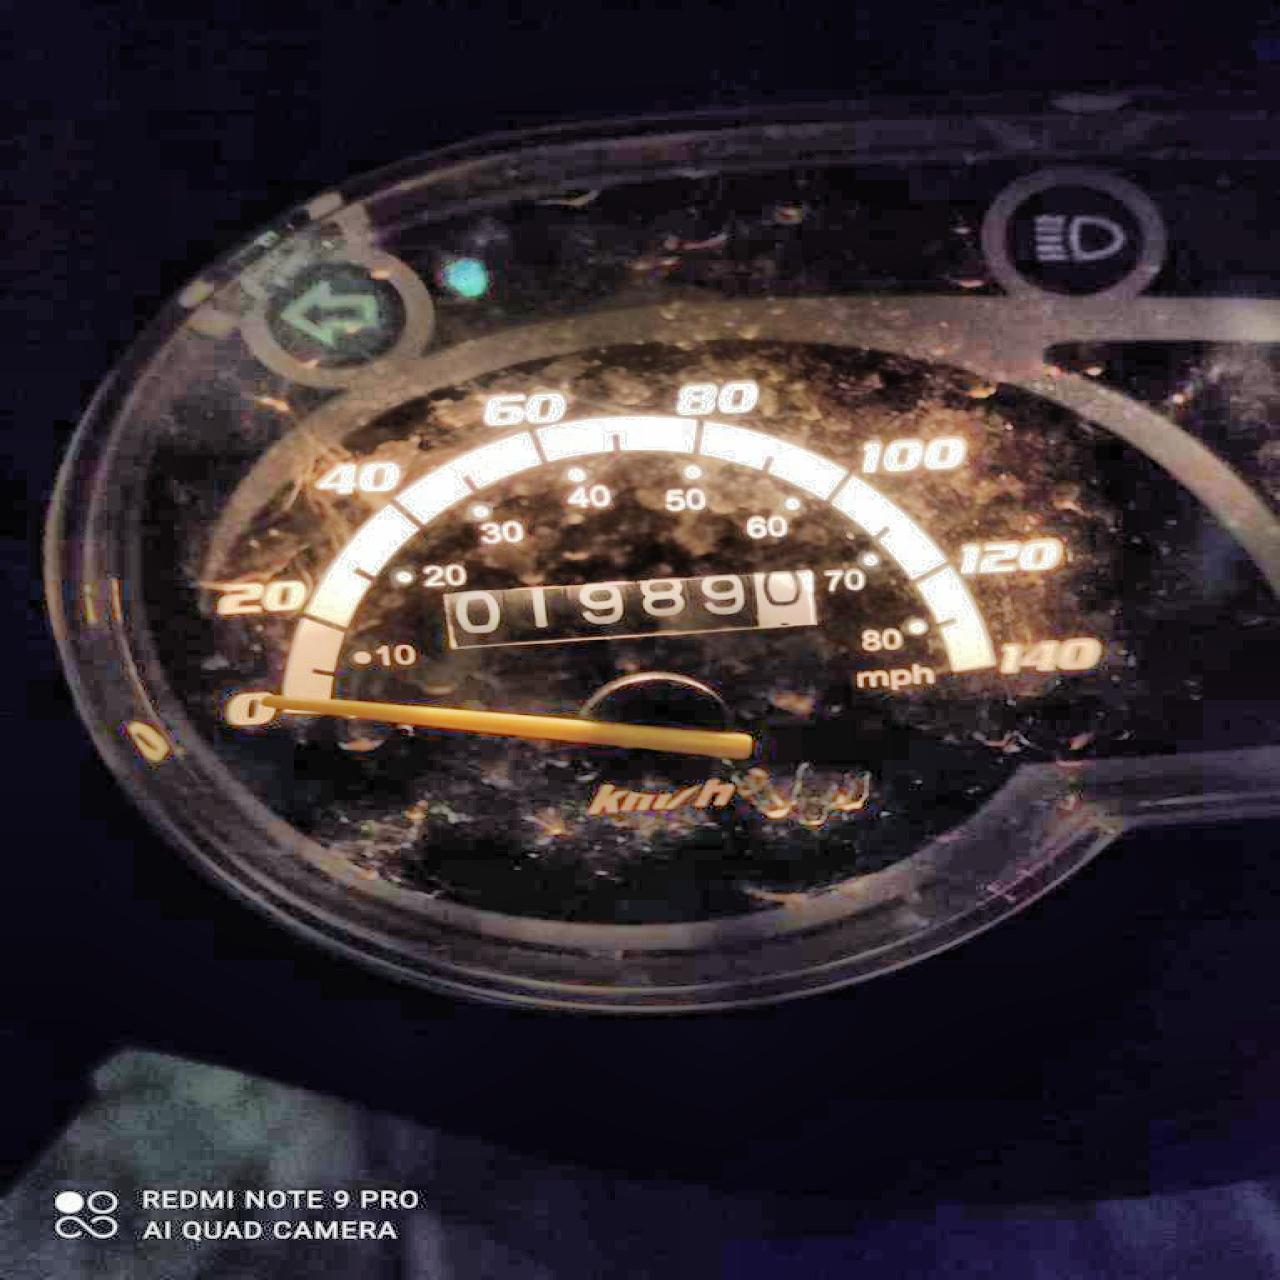0: (452, 587, 499, 633), (760, 565, 802, 606), (443, 561, 467, 586)
1: (527, 585, 549, 627)
8: (636, 573, 686, 617)
9: (577, 581, 624, 624), (699, 572, 745, 613)
odometer: (436, 566, 821, 653)
